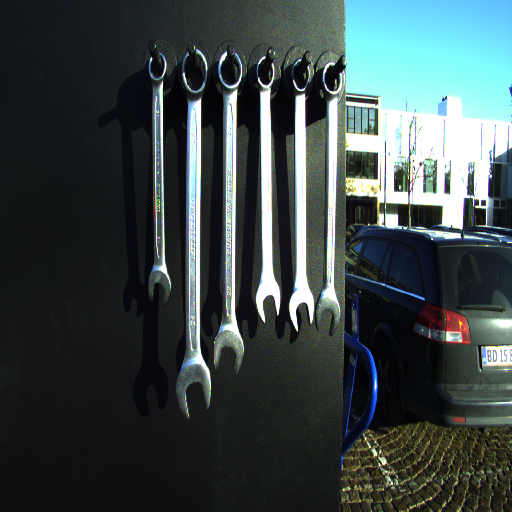bottom: (174, 358, 213, 419), (211, 324, 248, 376), (315, 285, 342, 336), (288, 283, 315, 332), (252, 281, 282, 324), (145, 265, 173, 306)
top: (180, 48, 210, 98), (216, 52, 244, 94), (254, 54, 278, 92), (320, 59, 344, 97), (289, 57, 312, 95), (146, 52, 169, 85)
